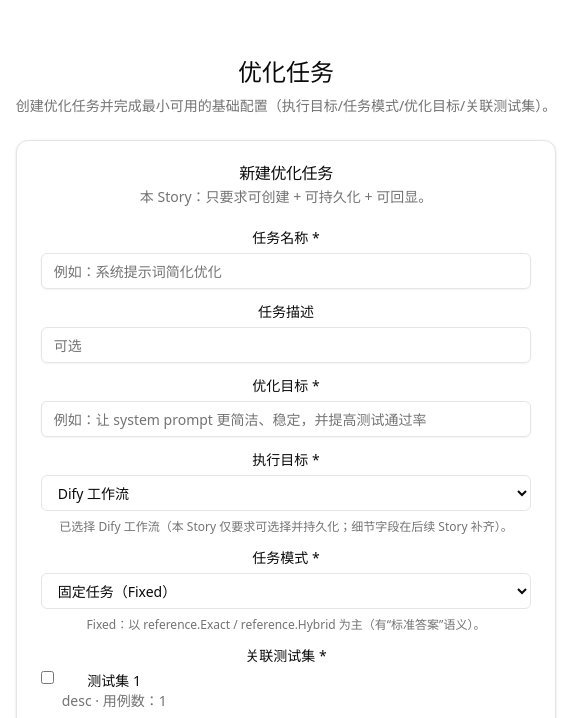
Test: OptimizationTasksView › 应支持选择 example 执行目标并随请求发送
Type "示例任务" into the field labelled "任务名称 *" at (286, 271), box [41,253,531,289]
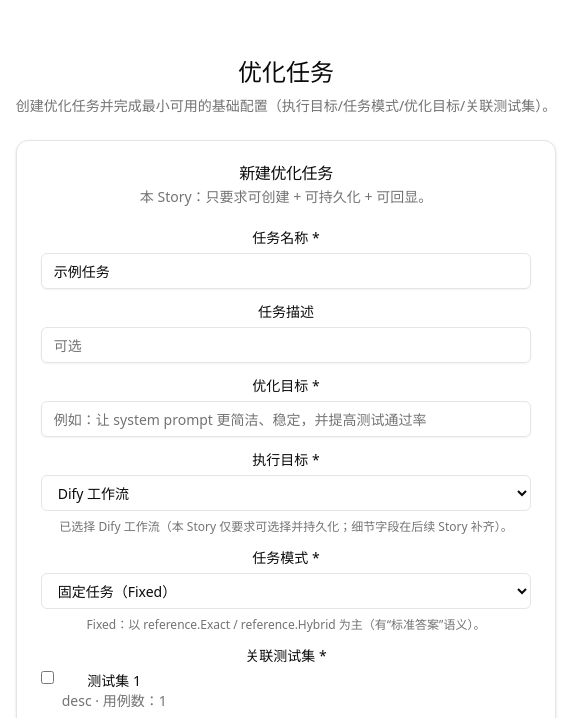
Type "示例目标" into the field labelled "优化目标 *" at (286, 419), box [41,401,531,437]
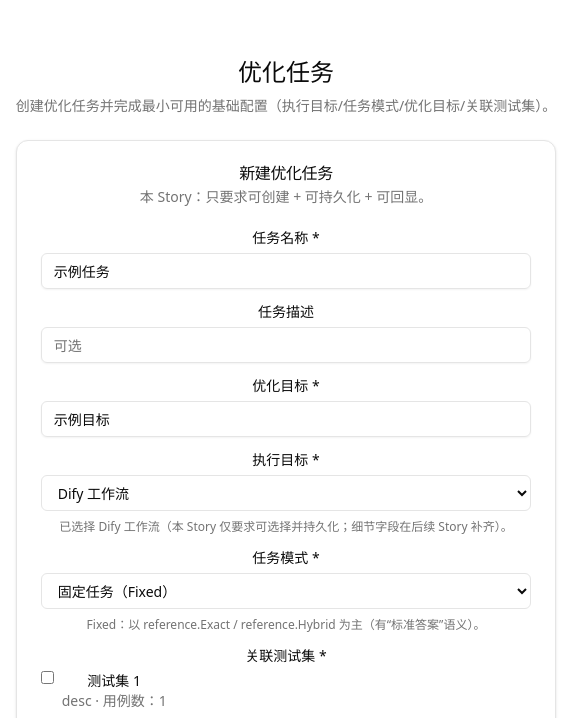
Select "Example（确定性示例）" in the dropdown labelled "执行目标 *" at (286, 493), box [41,475,531,511]
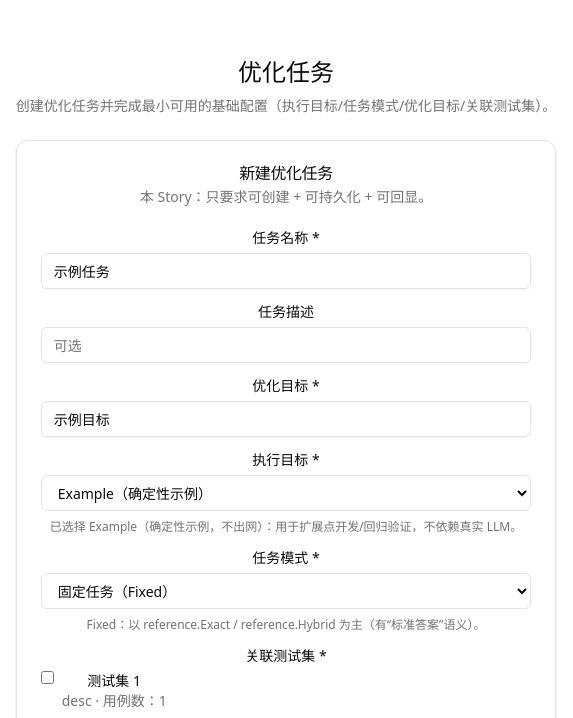
Click the checkbox named "选择测试集 测试集 1" at (47, 678), box [41,671,54,684]
(page scrolled)
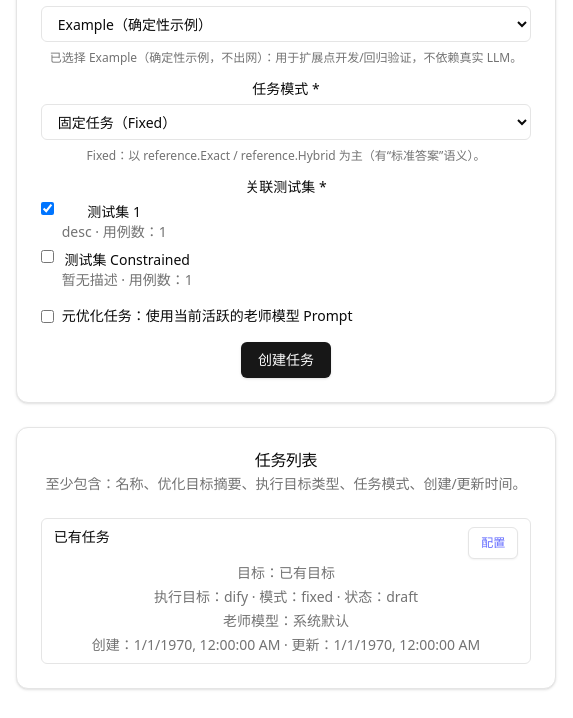
Click the button "创建任务" at (286, 360), box [241,342,331,378]
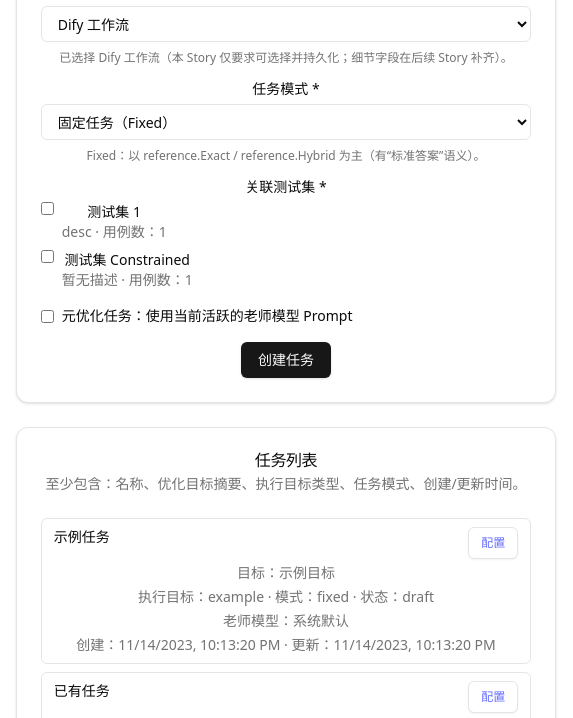
Expected: the text "示例任务" is shown, [54,527,110,547]
Expected: the text "执行目标：example · 模式：fixed · 状态：draft" is shown, [138,587,434,606]
